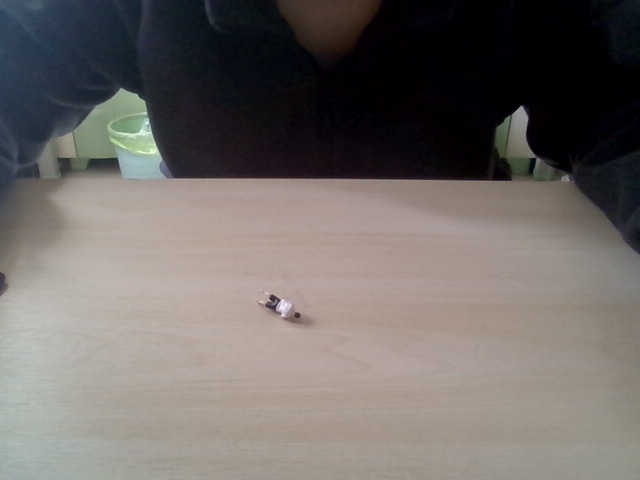fall: (253, 285, 304, 323)
